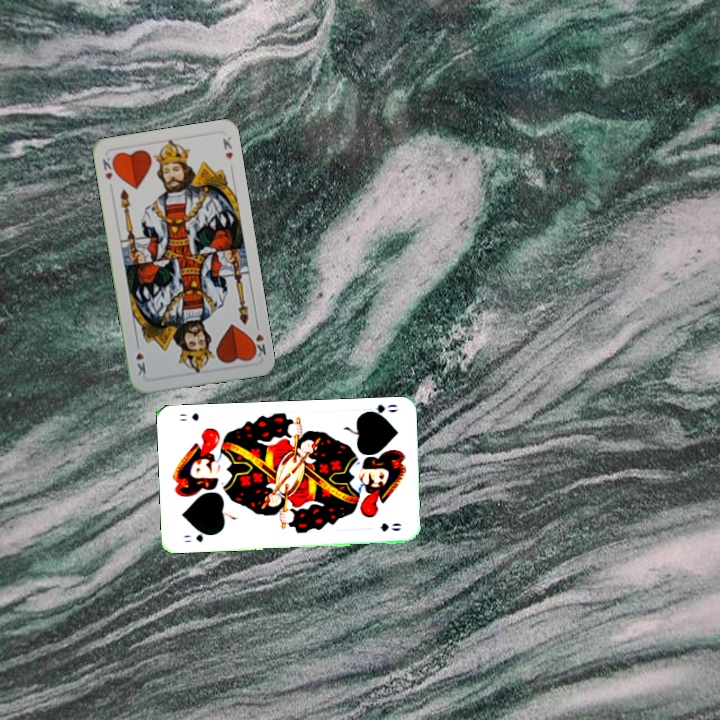GO: (360, 400, 400, 420), (180, 528, 216, 545)
HK: (247, 319, 269, 360), (98, 153, 119, 182)
